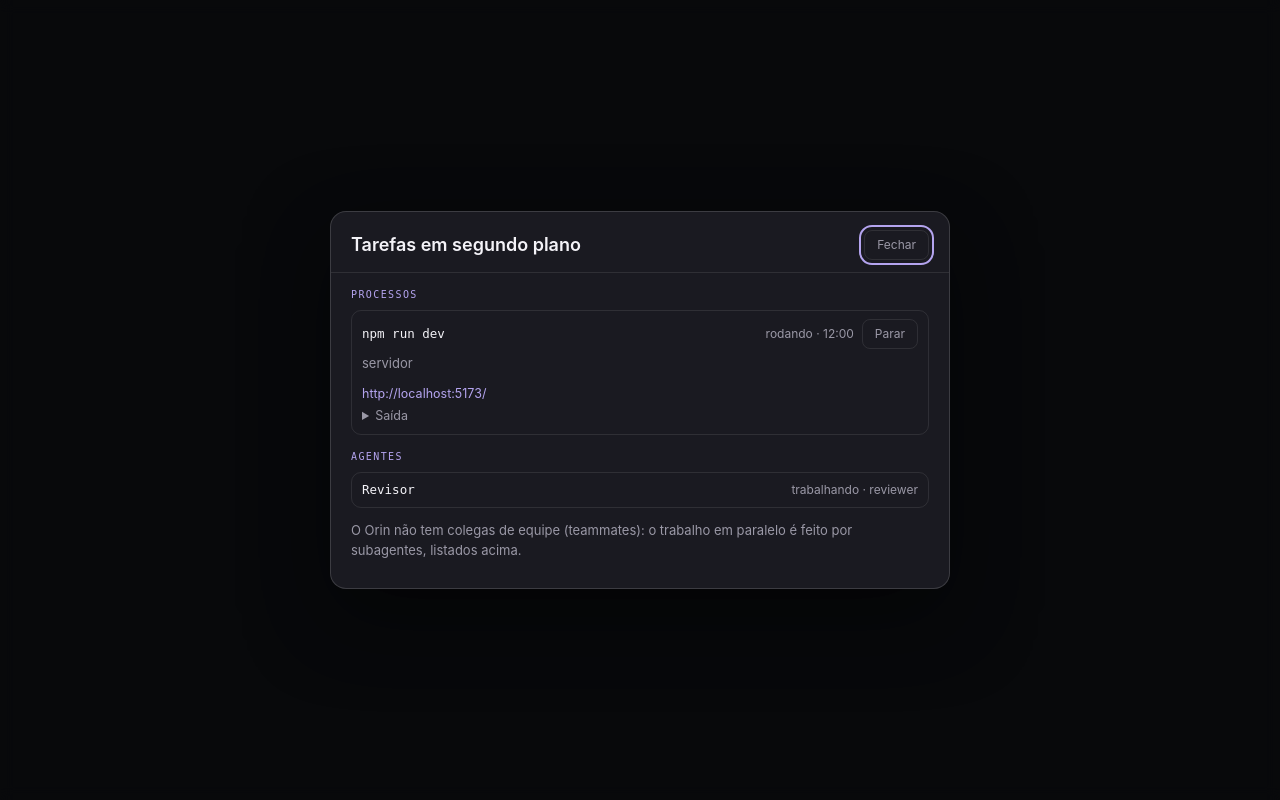
Scenario: the tasks panel › lists shells and subagents, and stops a shell that can be stopped
The image size is (1280, 800).
Expected: the text "npm run dev" is shown, [362,326,445,341]
Expected: the text "Revisor" is shown, [362,482,415,497]
Click the button "Parar" at [890, 334], box [862,318,918,348]
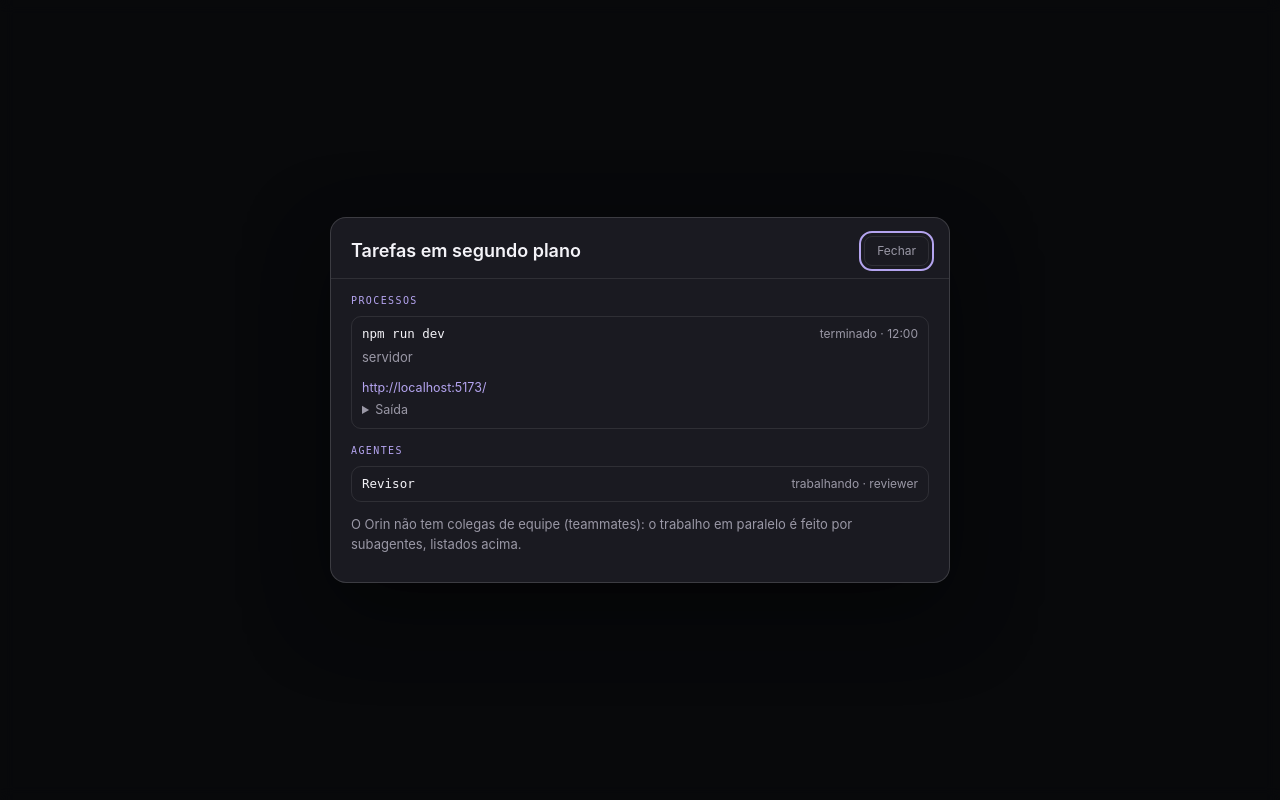
Expected: the button "Parar" is gone
